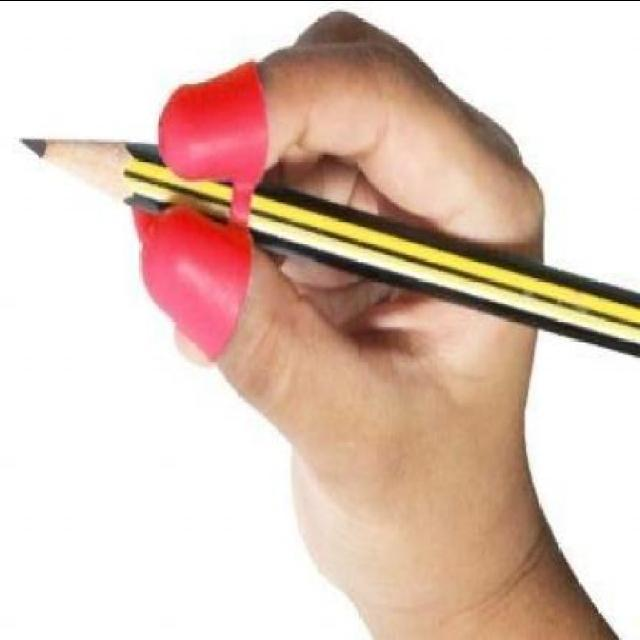Pencil: (9, 92, 163, 220)
